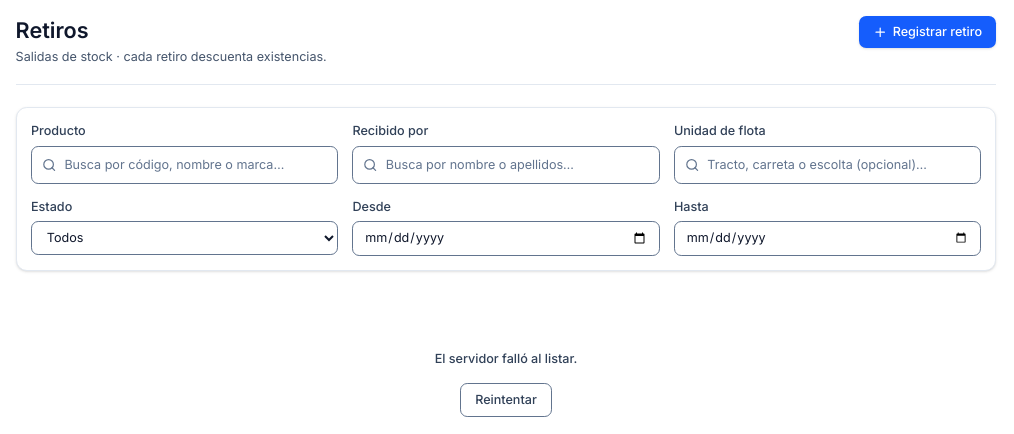
Test: WithdrawalsListPage › muestra el error del backend y permite reintentar
Expected: the text "El servidor falló al listar." is shown, [435,350,577,368]
Step 1. Click the button "Reintentar" → (506, 400), box [460,383,552,417]
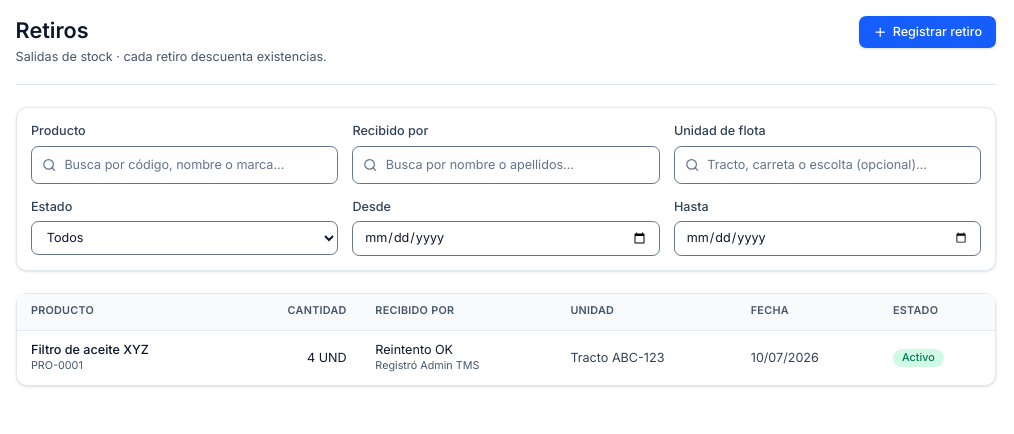
Result: the text "Reintento OK" is shown at [375,342,453,357]
